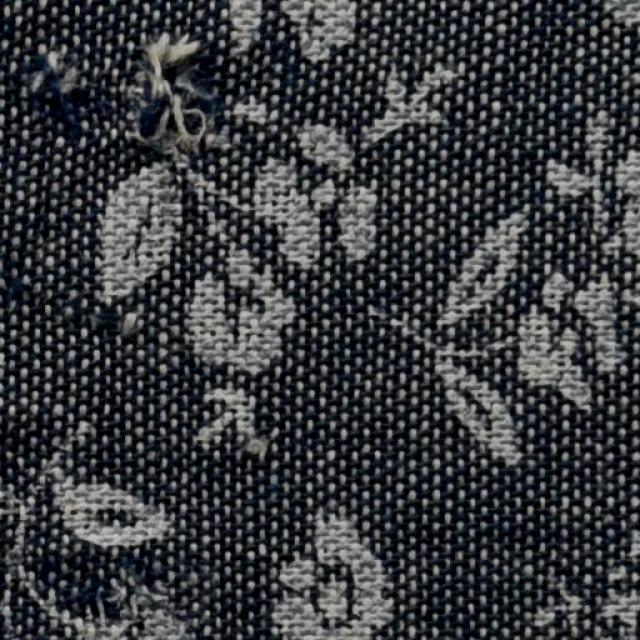Hole: (19, 30, 220, 159)
